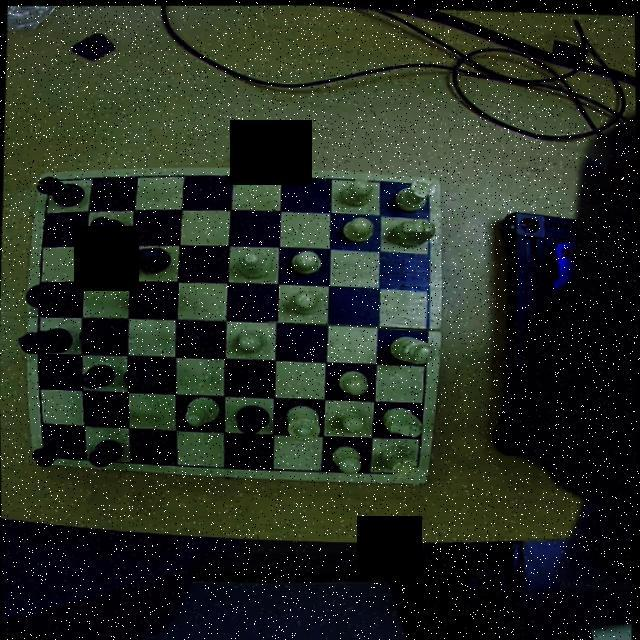chess-table-corners: (411, 176, 436, 198), (404, 459, 427, 480), (33, 448, 61, 463), (37, 175, 59, 193)
